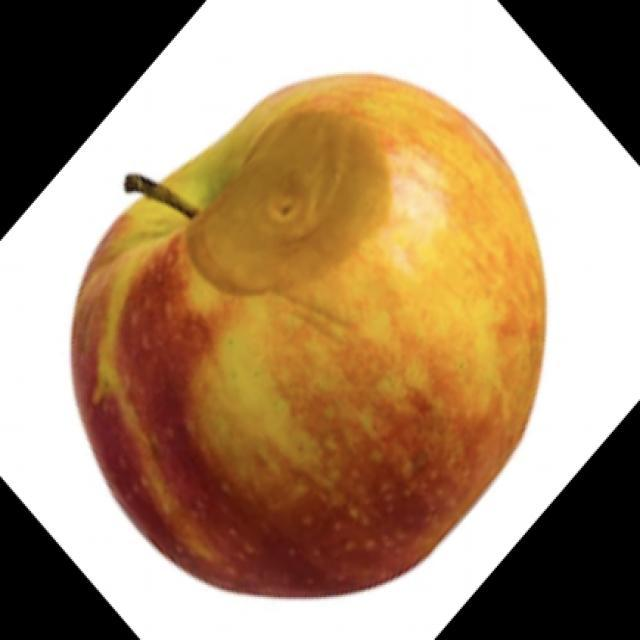Rotten: (110, 82, 548, 593)
